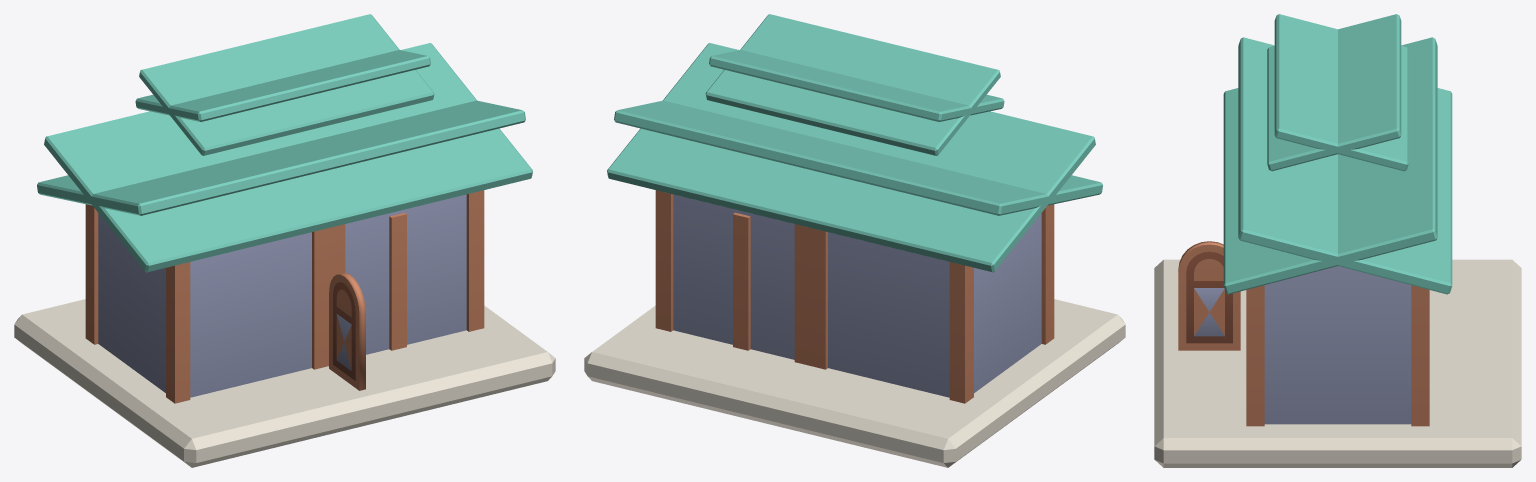
Rendered from asian-house.glb.
The picture shows the model from 3 angles, left to right: view 1: azimuth 30°, elevation 25°; view 2: azimuth 150°, elevation 25°; view 3: azimuth 270°, elevation 25°; orthographic projection. The views are drawn at different scales.
Parts seen in each view (by area): view 1: keep; view 2: keep; view 3: keep.
Boxes of the visible parts, bbox=[...] form: keep: bbox=[14, 14, 555, 467]; keep: bbox=[584, 14, 1125, 467]; keep: bbox=[1154, 14, 1521, 467].
Bounding box in the file's own units: 1.55 × 1.15 × 1.24.
5 materials, 3 textured.
